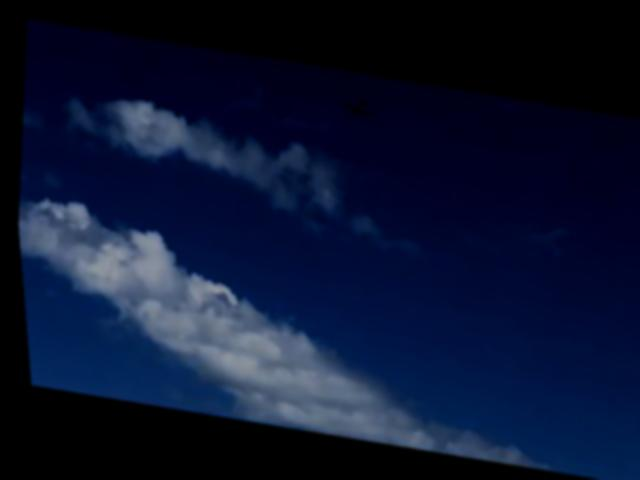uav: (332, 86, 379, 119)
